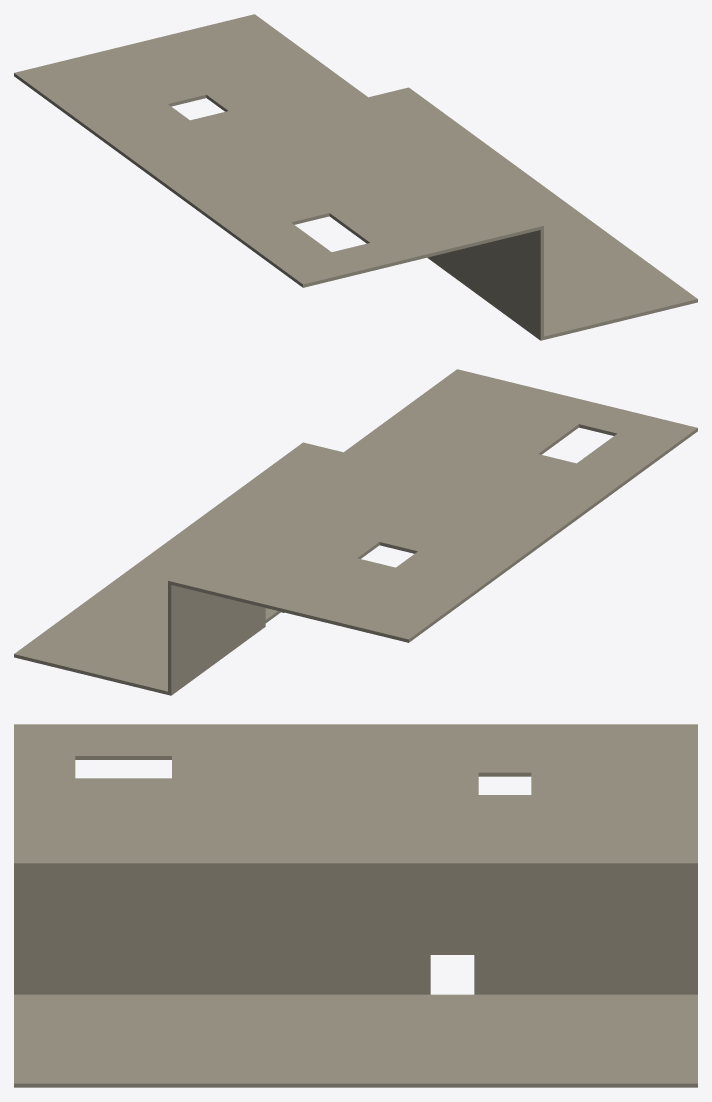
The model's file is gallery_surface.gltf.
The picture shows the model from 3 angles, top to bottom: view 1: azimuth 30°, elevation 25°; view 2: azimuth 150°, elevation 25°; view 3: azimuth 270°, elevation 25°; orthographic projection. The views are drawn at different scales.
Parts seen in each view (by area): view 1: Surface; view 2: Surface; view 3: Surface.
Boxes of the visible parts, x1,y1,x2,y2 form: Surface: (14,14,697,340); Surface: (14,369,697,695); Surface: (14,724,697,1087).
Size of the model in its own units: 61.5 by 17 by 78.
